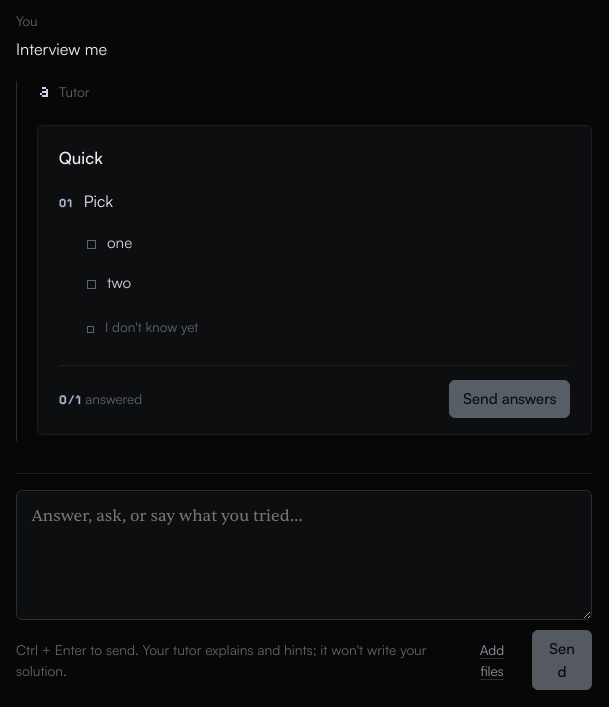
Scenario: forms inside the conversation › renders a form the tutor sent and returns the answers as the next message
The image size is (609, 707).
Expected: the text "Interview me" is shown, 16,39 -> 107,59
What coordinates should you click on to do the following:
click the radio button labelled "two"
I would click on:
 (109, 283)
Its box is 87,273 -> 131,292.
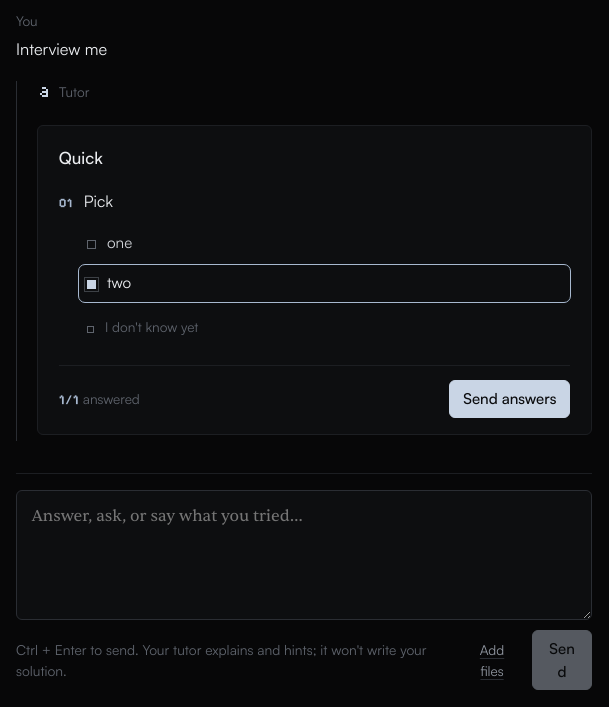
What coordinates should you click on to do the following:
click the button "Send answers"
I would click on:
 (510, 399)
Its box is 450,380 -> 570,418.
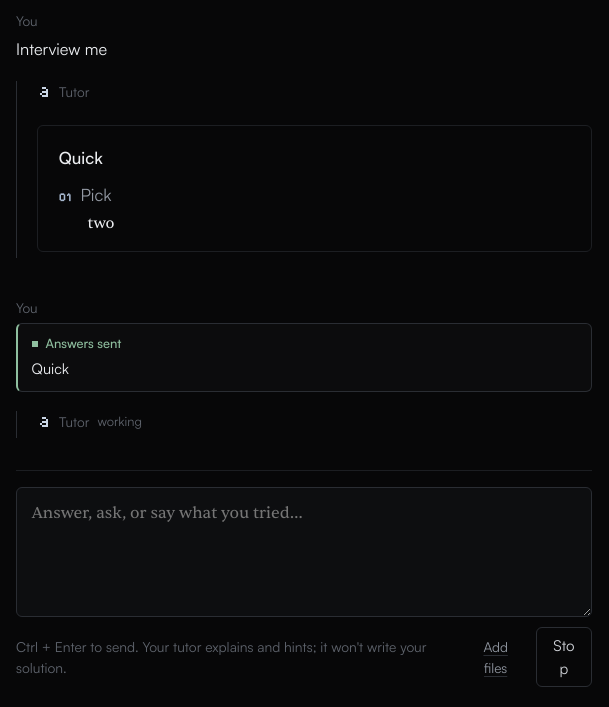
Expected: the element "Answers sent" shows "Quick", 32,359 -> 69,378
Expected: the button "Send answers" is gone
